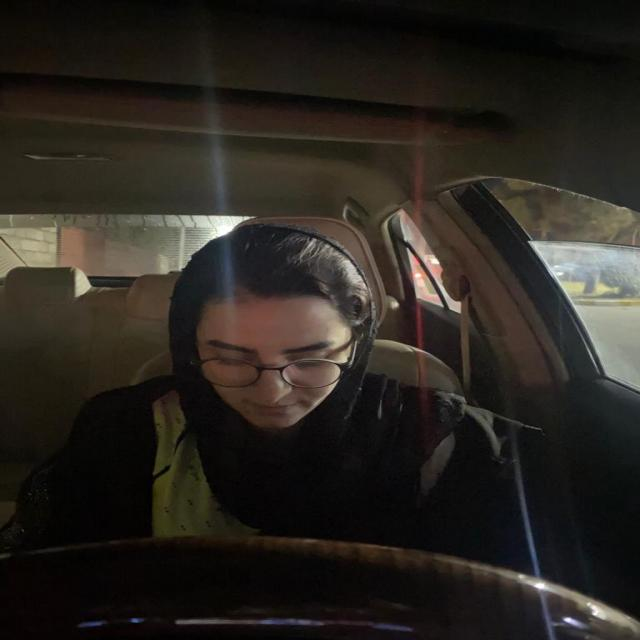drowsy: (175, 220, 372, 437)
